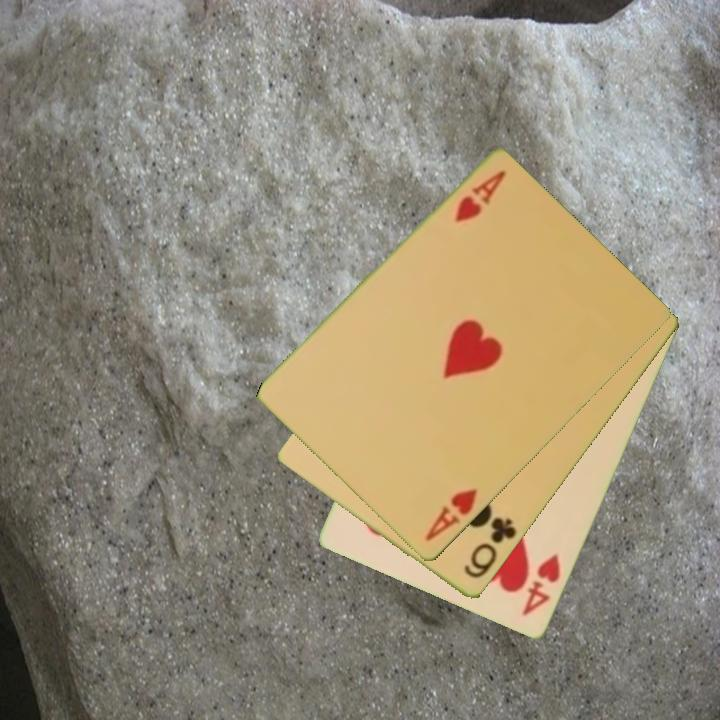4h: (519, 550, 564, 620)
6c: (460, 514, 520, 582)
Ah: (421, 485, 481, 545), (451, 167, 509, 227)
